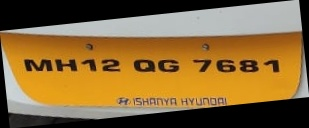character: (23, 57, 53, 72), (133, 58, 155, 73), (54, 57, 77, 71), (157, 58, 179, 72), (101, 57, 121, 72), (192, 58, 212, 72), (215, 59, 236, 72), (240, 58, 258, 73), (263, 58, 278, 73), (82, 57, 96, 71)
